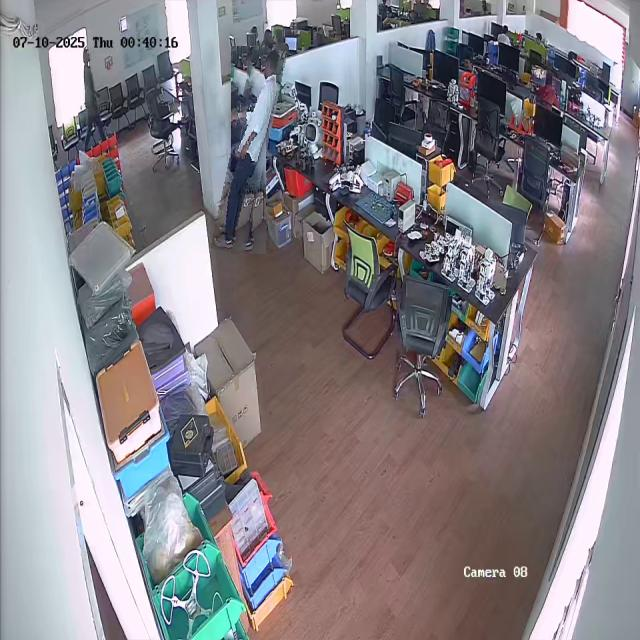person: (221, 46, 276, 254)
